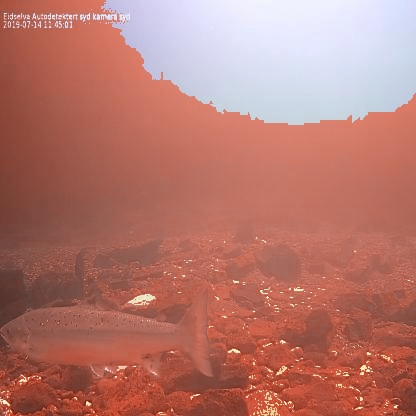salmon: (0, 285, 217, 381)
